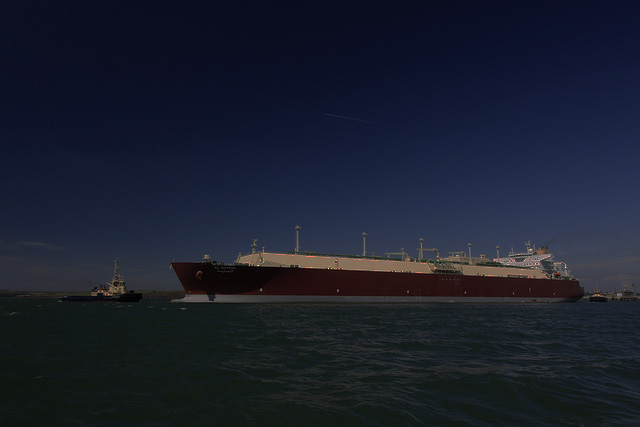LNG_ship: (165, 232, 587, 302)
tug_boat: (63, 259, 142, 300), (587, 285, 618, 306)
